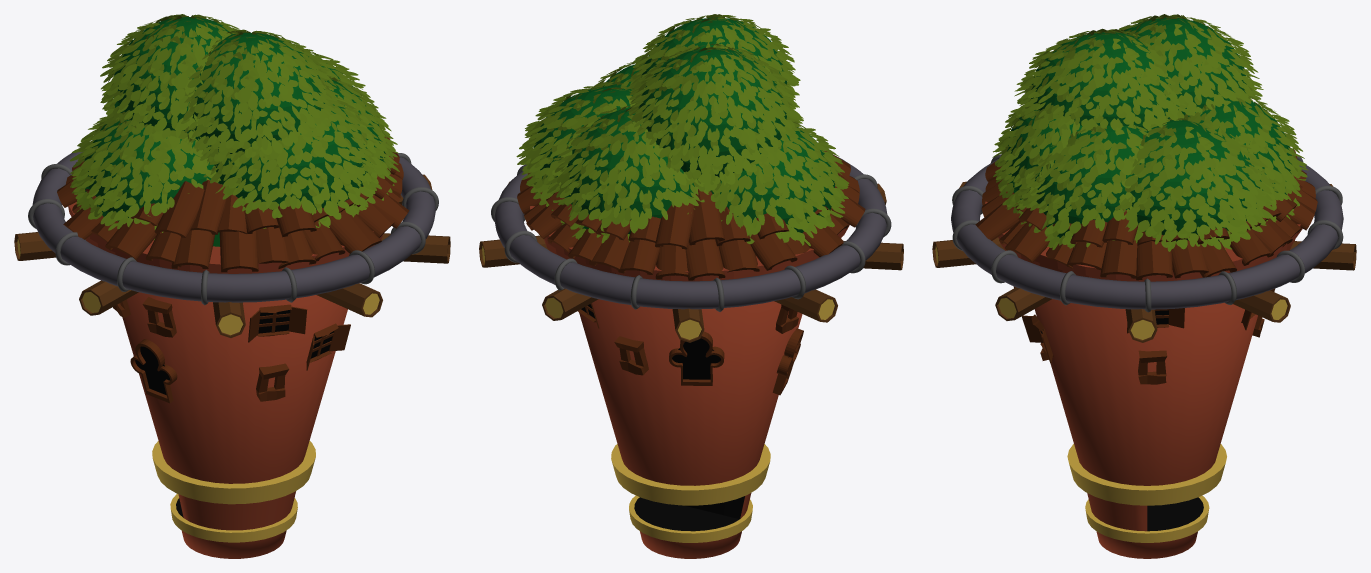
The model's file is pot_house.fbx.
3 renders of one model, left to right at view 1: azimuth 30°, elevation 25°; view 2: azimuth 150°, elevation 25°; view 3: azimuth 270°, elevation 25°, orthographic. The views are drawn at different scales.
Visible parts, largest first — view 1: Pot top half.001, Pot Base.001; view 2: Pot top half.001, Pot Base.001; view 3: Pot top half.001, Pot Base.001.
Part boxes in pixels (x1=…): Pot top half.001: x1=14, y1=14, x2=450, y2=483; Pot Base.001: x1=152, y1=441, x2=315, y2=558; Pot top half.001: x1=479, y1=14, x2=903, y2=485; Pot Base.001: x1=611, y1=444, x2=770, y2=558; Pot top half.001: x1=932, y1=14, x2=1356, y2=485; Pot Base.001: x1=1067, y1=444, x2=1226, y2=558.
Bounding box in the file's own units: 753 × 990 × 760.
